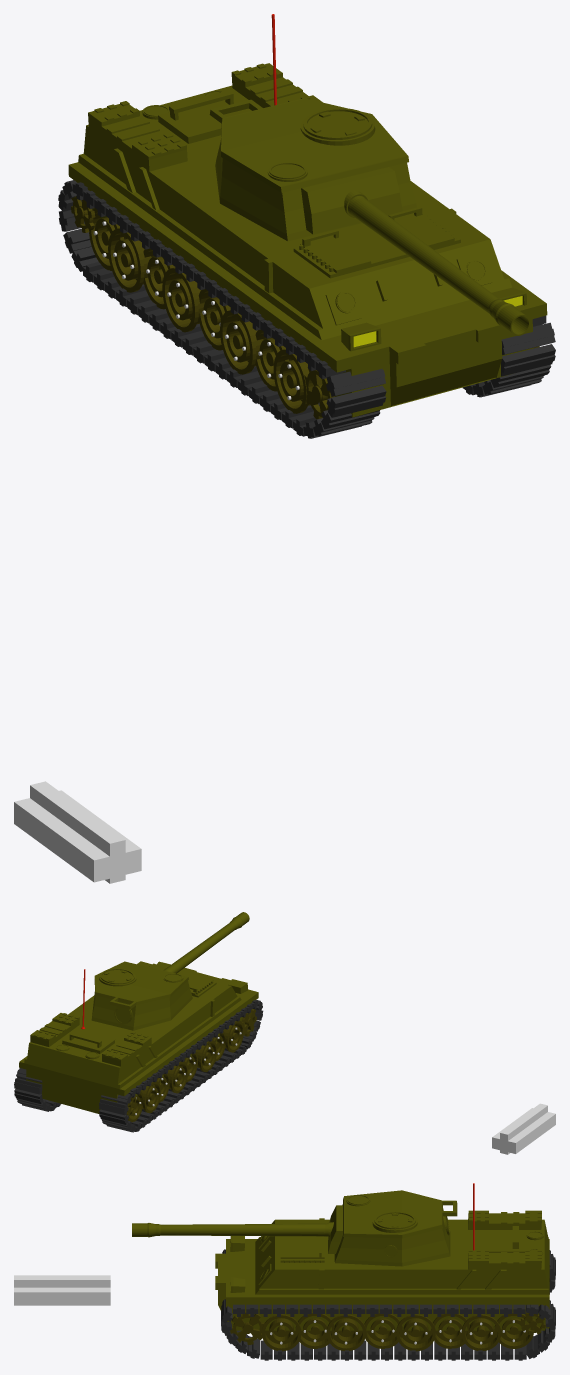
The model's file is armor.fbx.
3 views of the same model, one above another, from view 1: azimuth 30°, elevation 25°; view 2: azimuth 150°, elevation 25°; view 3: azimuth 270°, elevation 25° (orthographic). The views are drawn at different scales.
Visible parts, largest first — view 1: Cube, Cube.001, Cube.003, Cube.002, Circle.020, Cube.004, Cube.006, Cube.007, Cylinder, Circle.003, Circle.004, Circle (+3 smaller); view 2: Cube, Cube.001, Cube.003, Cube.002, Cube.004, Cube.010, Circle.020, Cube.005, Cylinder, Circle.004, Circle.003, Circle.005 (+2 smaller); view 3: Cube, Cube.001, Cube.009, Cube.008, Cube.003, Circle.020, Circle.016, Circle.014, Circle.015, Circle.019, Cube.005, Circle.012 (+10 smaller).
Part boxes in pixels (x1,y1,x2,y2): Cube: (68,63,547,417); Cube.001: (209,98,416,241); Cube.003: (14,781,141,883); Cube.002: (82,262,327,436); Circle.020: (344,190,530,335); Cube.004: (83,190,345,379); Cube.006: (303,368,386,438); Cube.007: (472,322,555,397); Cylinder: (300,108,375,145); Circle.003: (162,267,204,332); Circle.004: (220,310,263,374); Circle: (108,228,151,292); Cube: (19,961,258,1113); Cube.001: (91,961,192,1030); Cube.003: (492,1103,555,1154); Cube.002: (131,1045,246,1131); Cube.004: (135,1000,258,1094); Cube.010: (99,1088,136,1132); Circle.020: (163,912,249,973); Cube.005: (14,1068,51,1111); Cylinder: (99,968,136,986); Circle.004: (196,1040,217,1072); Circle.003: (168,1061,188,1093); Circle.005: (223,1020,243,1052); Cube: (215,1210,549,1330); Cube.001: (328,1190,457,1266); Cube.009: (260,1340,526,1360); Cube.008: (233,1304,525,1316); Cube.003: (14,1275,110,1305); Circle.020: (132,1222,333,1237); Circle.016: (396,1314,435,1351); Circle.014: (261,1314,301,1351); Circle.015: (326,1314,366,1350); Circle.019: (461,1314,501,1350); Cube.005: (526,1300,555,1358); Circle.012: (364,1312,402,1348).
Bounding box in the file's own units: 347 × 239 × 426.
